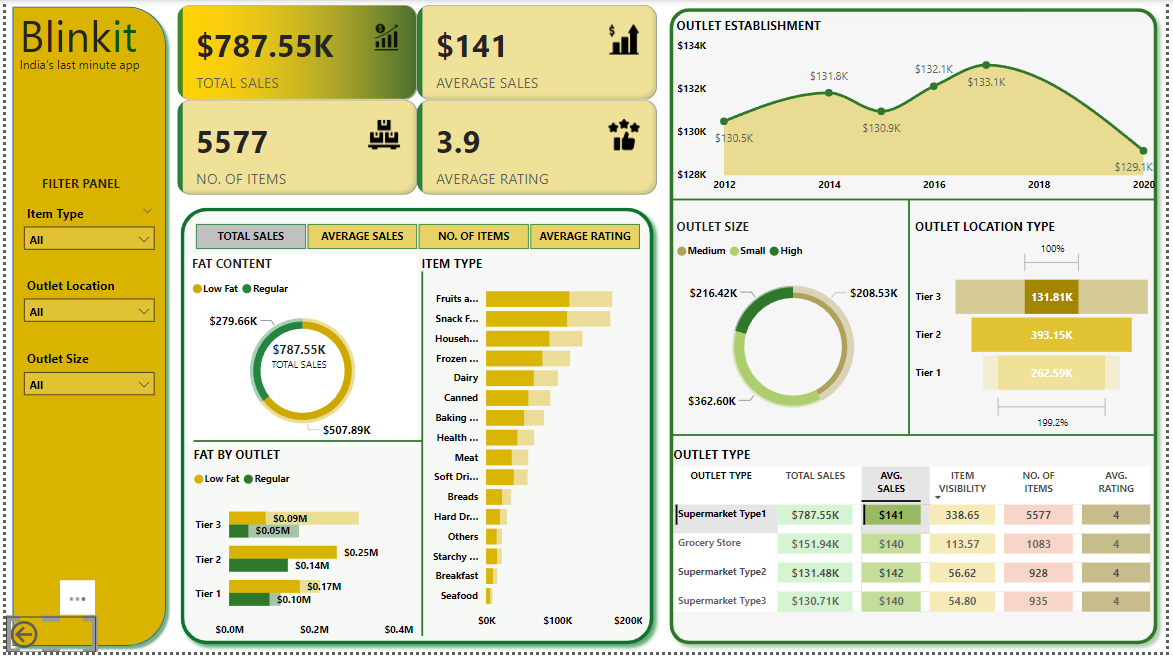

This screenshot's page, from the dashboard's own definition file:
{"tool":"powerbi","page":{"name":"Page 1","canvas":[1280,720],"ordinal":0},"visuals":[{"type":"shape","box":[0,0,183.9,720.6],"z":0},{"type":"textbox","box":[9.9,0,190.5,87.8],"z":1000},{"type":"textbox","box":[9.9,56.3,150.7,49.7],"z":2000},{"type":"cardVisual","fields":{"Data":["BlinkIT Grocery Data.Total sales","BlinkIT Grocery Data.AVERAGE SALES","BlinkIT Grocery Data.NO. OF ITEMS","BlinkIT Grocery Data.AVERAGE RATING"]},"box":[183.9,0,540,220.3],"z":3000},{"type":"shape","box":[183.9,220.3,540,500.3],"z":4000},{"type":"donutChart","title":"FAT CONTENT","fields":{"Y":["BlinkIT Grocery Data.TOTAL SALES"],"Category":["BlinkIT Grocery Data.Item Fat Content"]},"box":[200.4,281.6,253.4,210.4],"z":5000},{"type":"slicer","fields":{"Values":["metrics.metrics"]},"box":[183.9,240.2,540,41.4],"z":6000},{"type":"cardVisual","fields":{"Data":["BlinkIT Grocery Data.TOTAL SALES"]},"box":[270,359.5,107.7,59.6],"z":7000},{"type":"clusteredBarChart","title":"FAT BY OUTLET","fields":{"Y":["BlinkIT Grocery Data.TOTAL SALES"],"Category":["BlinkIT Grocery Data.Outlet Location Type"],"Series":["BlinkIT Grocery Data.Item Fat Content"]},"box":[202.1,492,253.4,220.3],"z":8000},{"type":"barChart","title":"ITEM TYPE","fields":{"Y":["BlinkIT Grocery Data.TOTAL SALES"],"Category":["BlinkIT Grocery Data.Item Type"]},"box":[453.9,281.6,253.4,420.7],"z":9000},{"type":"shape","box":[723.9,0,556.6,720.6],"z":10000},{"type":"lineChart","title":"OUTLET ESTABLISHMENT","fields":{"Y":["BlinkIT Grocery Data.TOTAL SALES"],"Category":["BlinkIT Grocery Data.Outlet Establishment Year"]},"box":[735.5,18.2,538.4,202.1],"z":11000},{"type":"donutChart","title":"OUTLET SIZE","fields":{"Y":["BlinkIT Grocery Data.TOTAL SALES"],"Category":["BlinkIT Grocery Data.Outlet Size"]},"box":[735.5,240.2,266.7,240.2],"z":12000},{"type":"funnel","title":"OUTLET LOCATION TYPE","fields":{"Y":["Sum(BlinkIT Grocery Data.Sales)"],"Category":["BlinkIT Grocery Data.Outlet Location Type"]},"box":[998.9,240.2,271.7,240.2],"z":13000},{"type":"pivotTable","title":"OUTLET TYPE","fields":{"Rows":["BlinkIT Grocery Data.Outlet Type"],"Values":["BlinkIT Grocery Data.TOTAL SALES","BlinkIT Grocery Data.AVERAGE SALES","Sum(BlinkIT Grocery Data.Item Visibility)","BlinkIT Grocery Data.NO. OF ITEMS","BlinkIT Grocery Data.AVERAGE RATING"]},"box":[732.2,492,538.4,210.4],"z":14000},{"type":"actionButton","box":[0,0,100,40],"z":15000},{"type":"shape","box":[207.1,475.4,253.4,23.2],"z":15001},{"type":"shape","box":[455.5,299.8,8.3,402.5],"z":15002},{"type":"shape","box":[735.5,473.8,535,13.3],"z":15003},{"type":"shape","box":[990.6,220.3,13.3,260.1],"z":15004},{"type":"shape","box":[735.5,213.7,535,13.3],"z":15005},{"type":"slicer","fields":{"Values":["BlinkIT Grocery Data.Outlet Location Type"]},"box":[9.9,299.8,164,74.5],"z":15006},{"type":"slicer","fields":{"Values":["BlinkIT Grocery Data.Outlet Size"]},"box":[9.9,381,164,74.5],"z":15007},{"type":"slicer","fields":{"Values":["BlinkIT Grocery Data.Item Type"]},"box":[9.9,220.3,164,74.5],"z":15008},{"type":"textbox","box":[34.8,187.2,125.9,33.1],"z":15009}]}

Visuals, with their boxes in screenshot pixels (x1, y1, x2, y2), scaled from the page's 1280x720 canvas onto the 1173x661 screenshot:
shape: bbox(0, 0, 169, 660)
textbox: bbox(9, 0, 184, 81)
textbox: bbox(9, 52, 147, 97)
cardVisual - BlinkIT Grocery Data.Total sales x BlinkIT Grocery Data.AVERAGE SALES: bbox(169, 0, 663, 202)
shape: bbox(169, 202, 663, 660)
"FAT CONTENT" donutChart: bbox(184, 259, 416, 452)
slicer - metrics.metrics: bbox(169, 221, 663, 259)
cardVisual - BlinkIT Grocery Data.TOTAL SALES: bbox(247, 330, 346, 385)
"FAT BY OUTLET" clusteredBarChart: bbox(185, 452, 417, 654)
"ITEM TYPE" barChart: bbox(416, 259, 648, 645)
shape: bbox(663, 0, 1172, 660)
"OUTLET ESTABLISHMENT" lineChart: bbox(674, 17, 1167, 202)
"OUTLET SIZE" donutChart: bbox(674, 221, 918, 441)
"OUTLET LOCATION TYPE" funnel: bbox(915, 221, 1164, 441)
"OUTLET TYPE" pivotTable: bbox(671, 452, 1164, 645)
actionButton: bbox(0, 0, 92, 37)
shape: bbox(190, 436, 422, 458)
shape: bbox(417, 275, 425, 645)
shape: bbox(674, 435, 1164, 447)
shape: bbox(908, 202, 920, 441)
shape: bbox(674, 196, 1164, 208)
slicer - BlinkIT Grocery Data.Outlet Location Type: bbox(9, 275, 159, 344)
slicer - BlinkIT Grocery Data.Outlet Size: bbox(9, 350, 159, 418)
slicer - BlinkIT Grocery Data.Item Type: bbox(9, 202, 159, 271)
textbox: bbox(32, 172, 147, 202)
